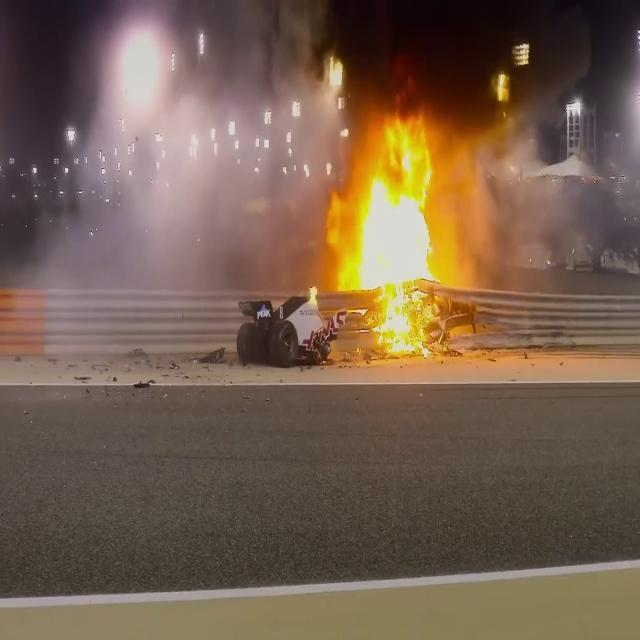Fire: (331, 126, 452, 350)
Smoke: (148, 1, 335, 292)
